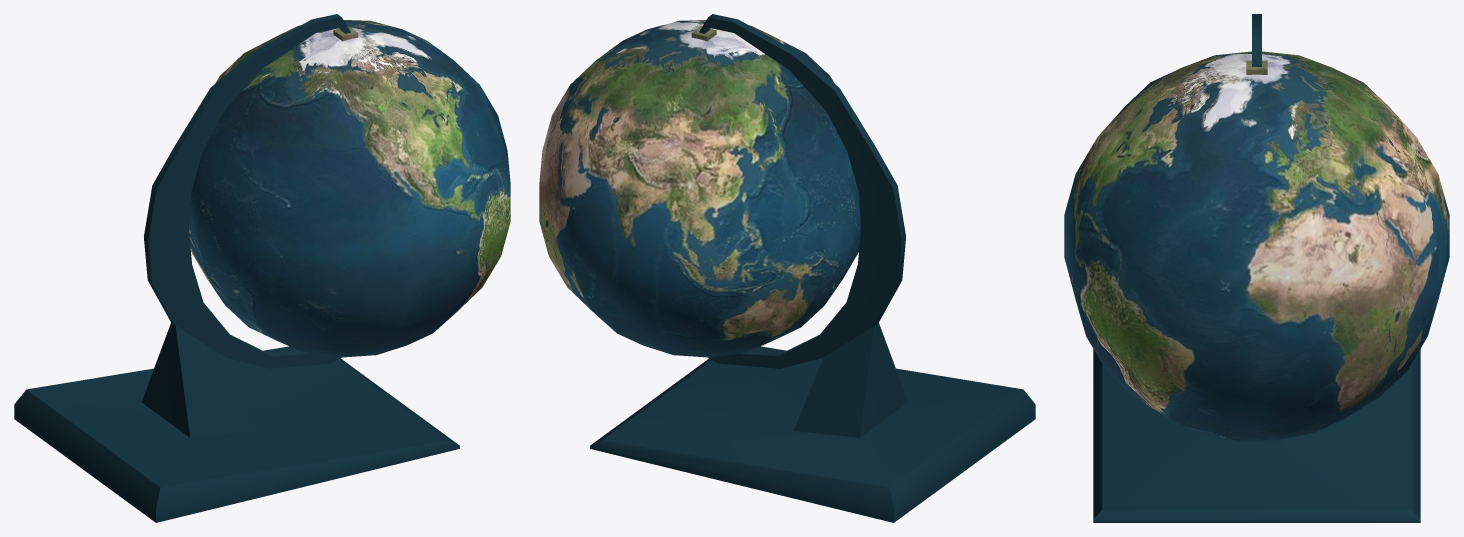
Rendered from wereldbol.fbx.
3 views of the same model, side by side, from view 1: azimuth 30°, elevation 25°; view 2: azimuth 150°, elevation 25°; view 3: azimuth 270°, elevation 25° (orthographic). The views are drawn at different scales.
Visible parts, largest first — view 1: pSphere2; view 2: pSphere2; view 3: pSphere2.
Boxes of the visible parts, x1,y1,x2,y2 form: pSphere2: (14, 14, 510, 522); pSphere2: (539, 14, 1035, 522); pSphere2: (1064, 14, 1449, 522).
Bounding box in the file's own units: 21.08 × 19.75 × 15.17.
